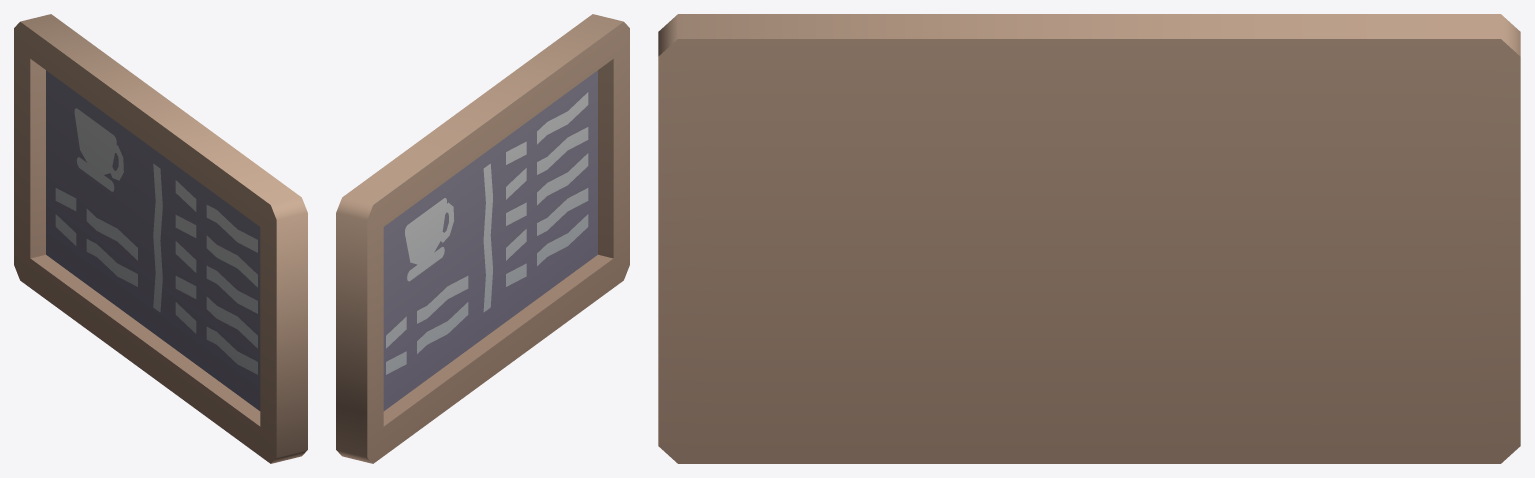
Rendered from chalkboard-sign-hanging (%wall).glb.
3 views of the same model, side by side, from view 1: azimuth 30°, elevation 25°; view 2: azimuth 150°, elevation 25°; view 3: azimuth 270°, elevation 25° (orthographic). The views are drawn at different scales.
Parts seen in each view (by area): view 1: chalkboard-sign-hanging (%wall); view 2: chalkboard-sign-hanging (%wall); view 3: chalkboard-sign-hanging (%wall).
Part boxes in pixels (x1=…): chalkboard-sign-hanging (%wall): x1=14, y1=14, x2=307, y2=463; chalkboard-sign-hanging (%wall): x1=336, y1=14, x2=629, y2=463; chalkboard-sign-hanging (%wall): x1=658, y1=14, x2=1520, y2=463.
Bounding box in the file's own units: 0.0638 × 0.507 × 0.932.
